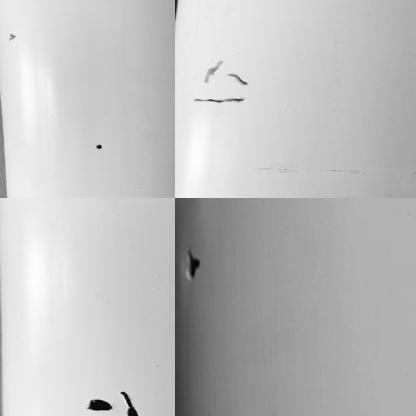fengxi: (191, 95, 246, 107), (228, 70, 249, 89)
kongdong: (179, 249, 207, 284), (120, 386, 140, 416), (86, 394, 113, 412), (7, 32, 18, 42), (94, 143, 101, 149)
sunshang: (201, 56, 219, 83)
